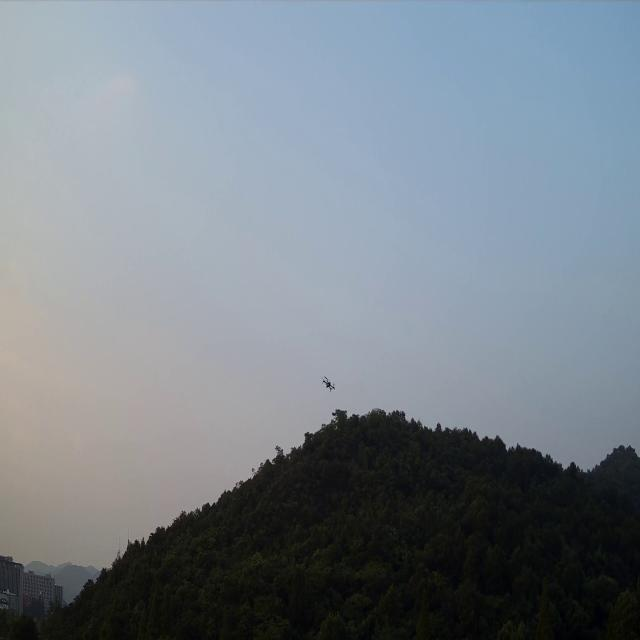UAV: (320, 376, 336, 392)
